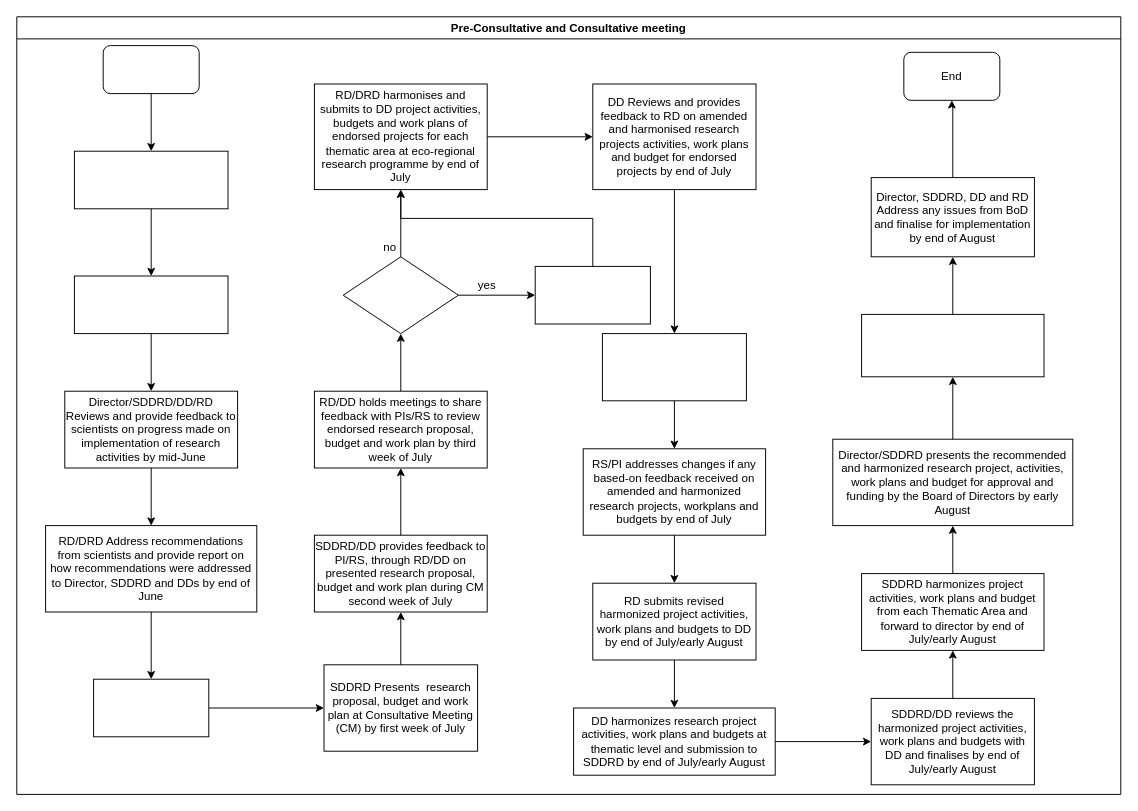
Image size: 1138x811. Some labels were removed from this diagram. Here are the shapes that lost their labels. From the top down, the box of each, then its label:
(102, 45, 199, 94): Start
(73, 150, 228, 209): Directors calls for the Pre-consultative and consultative meeting by mid-May
(73, 275, 228, 334): Director organises for a pre-consultative and consultative meeting by end of May
(342, 256, 458, 334): Amendment required?
(534, 265, 650, 324): RS/PI makes amendments and submits to RD/DD
(861, 313, 1044, 377): Director/SDDRD provides feedback to DD on Board of Director decision on research
(601, 333, 746, 401): RD/DRD Provides feedback to PI and RS on any changes from DD by end of July
(93, 678, 209, 737): Director convenes the consultative meeting (CM) by end of June
